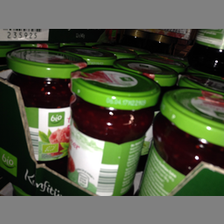jam: (66, 66, 161, 195), (5, 47, 84, 174), (139, 89, 224, 195)
